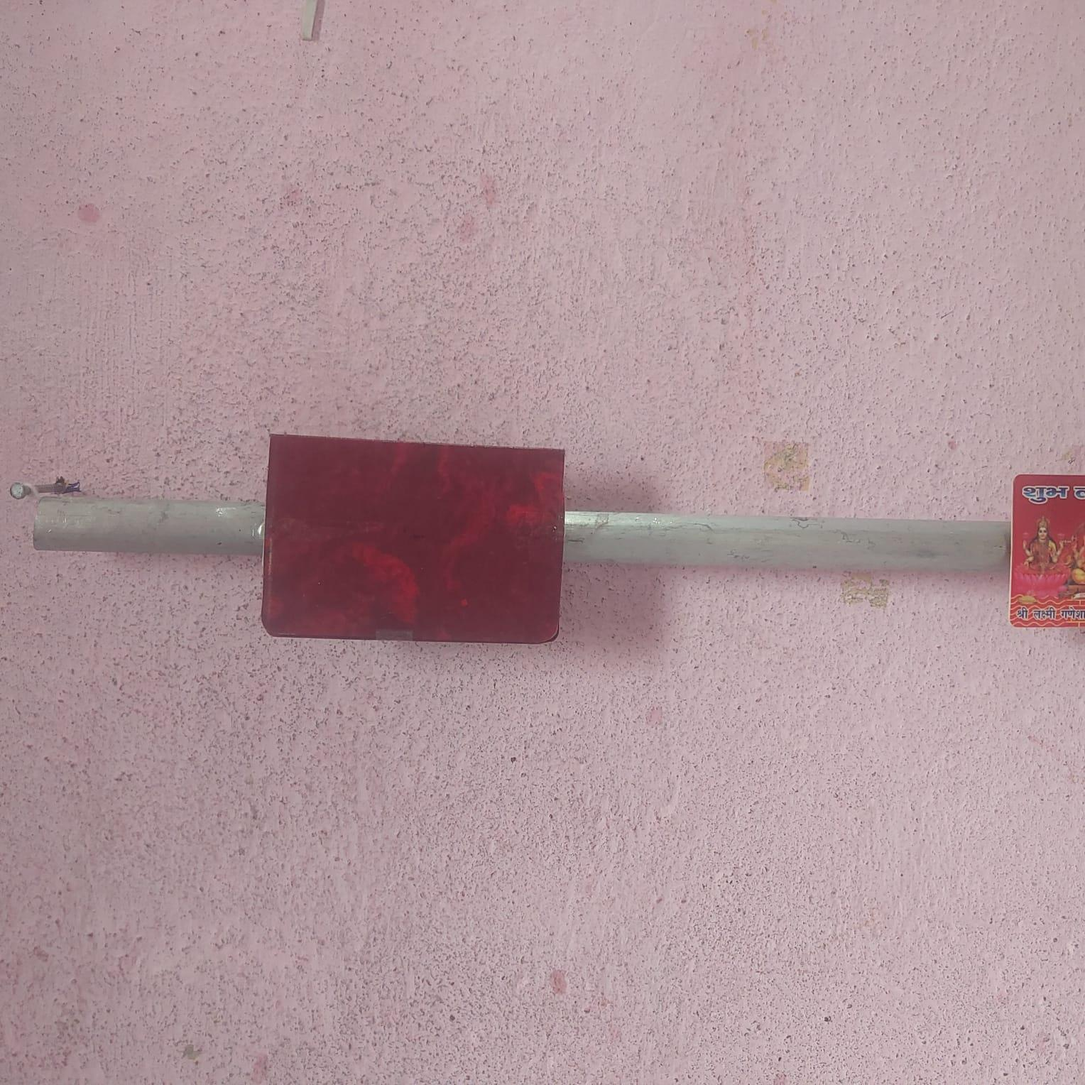wallet: (258, 433, 570, 647)
